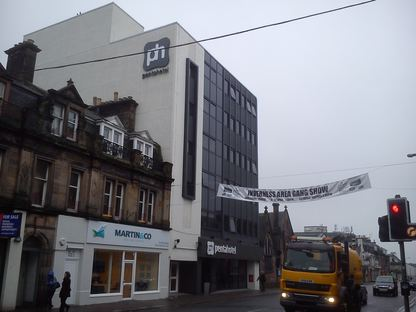car: (371, 274, 399, 298)
truck: (262, 229, 380, 309)
